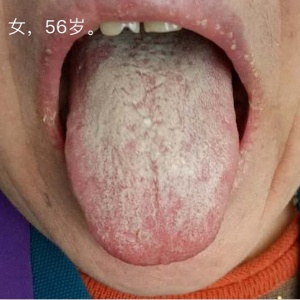st: (60, 77, 236, 264)
